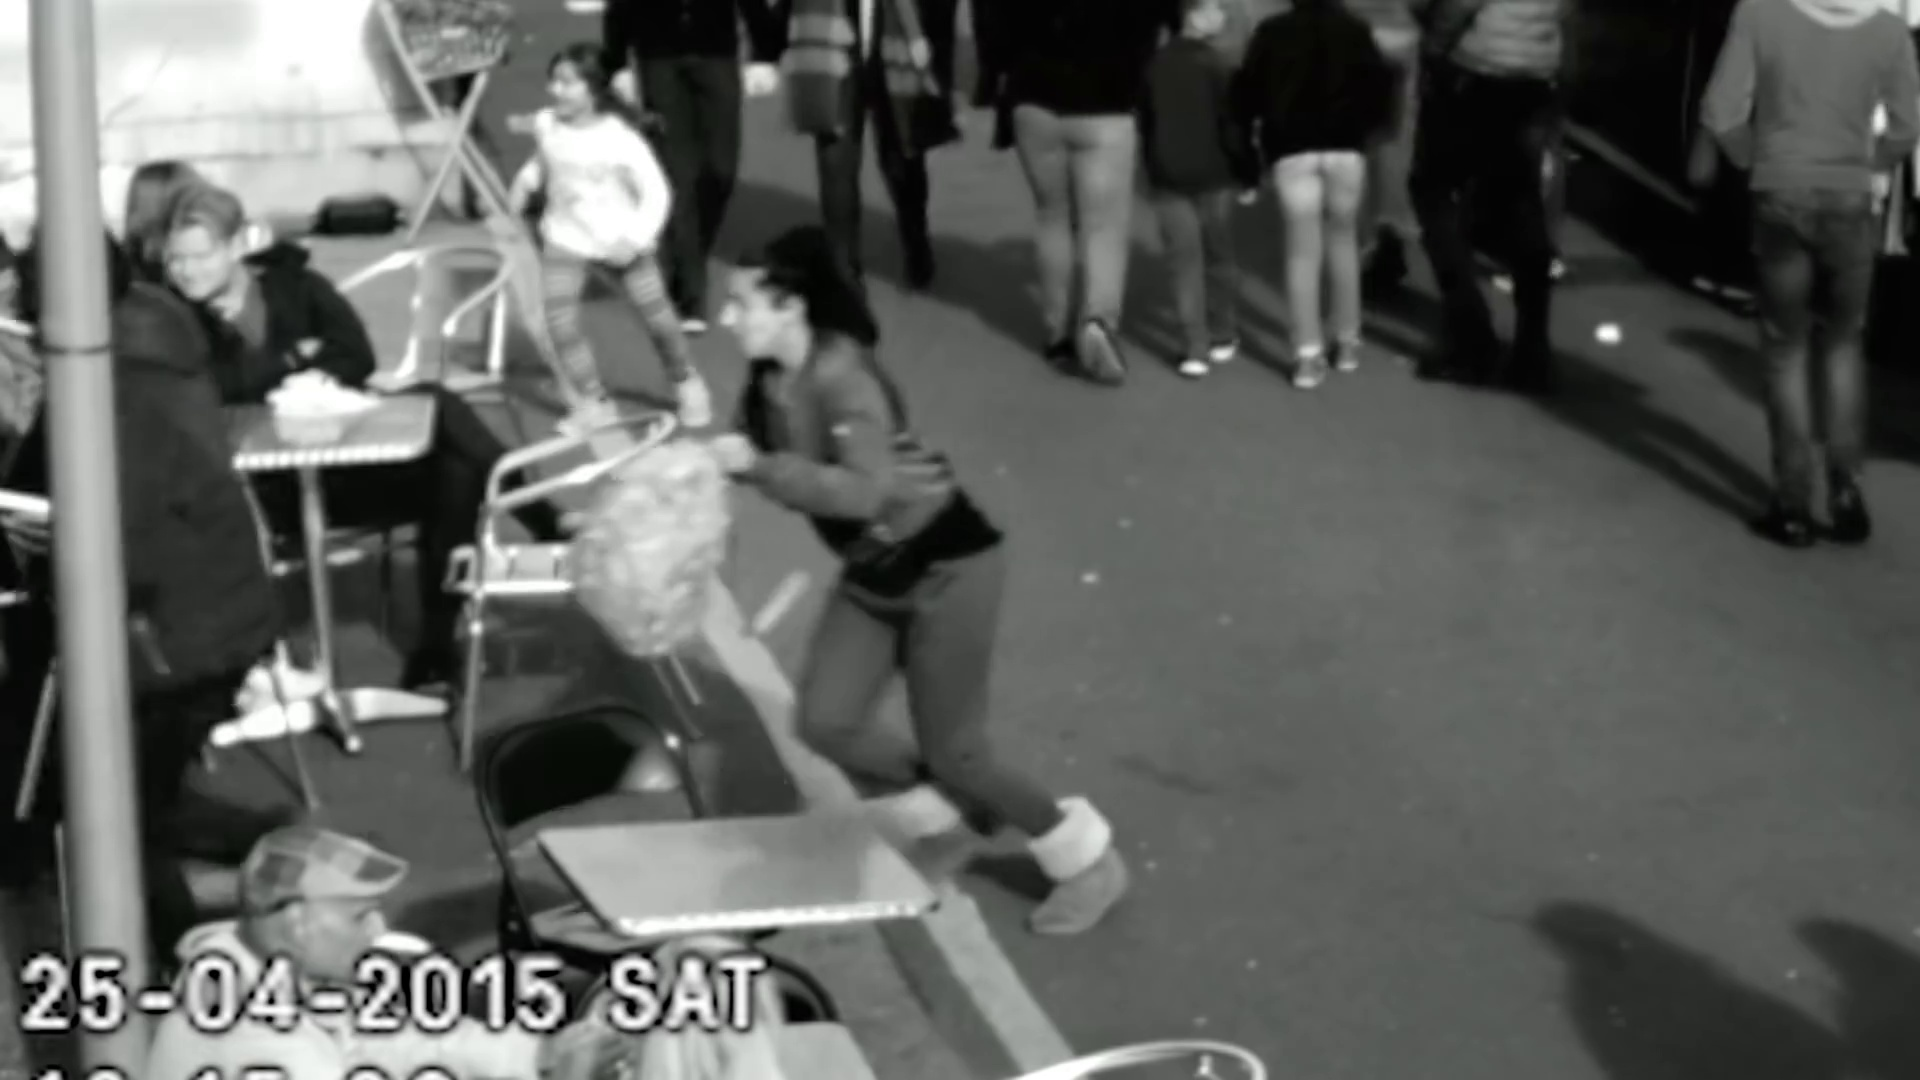face: (716, 270, 782, 358), (160, 226, 223, 298), (540, 59, 603, 122)
